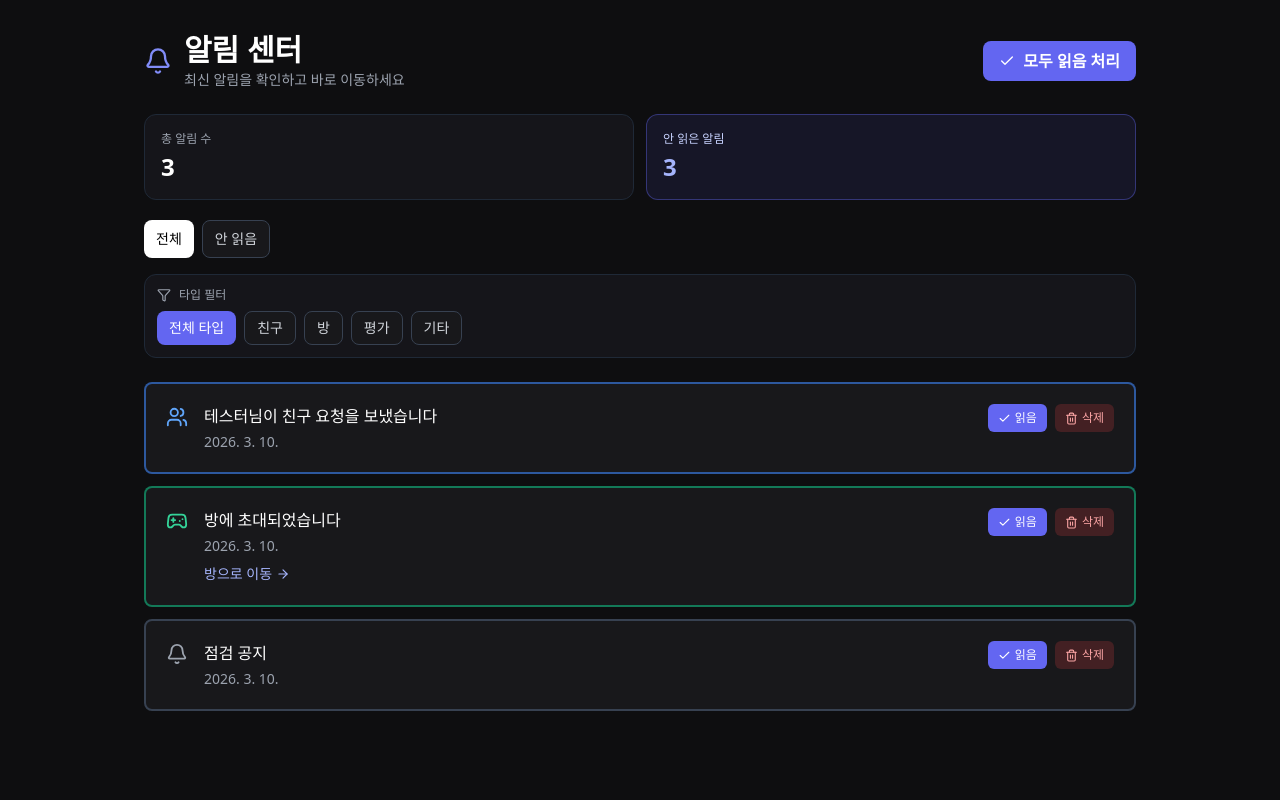
Scenario: NotificationsPage filtering › filters by unread tab and friend type
Expected: the heading "알림 센터" is shown, [184,29,302,70]
Click the button "안 읽음": coordinates (236, 239) [202,220,270,258]
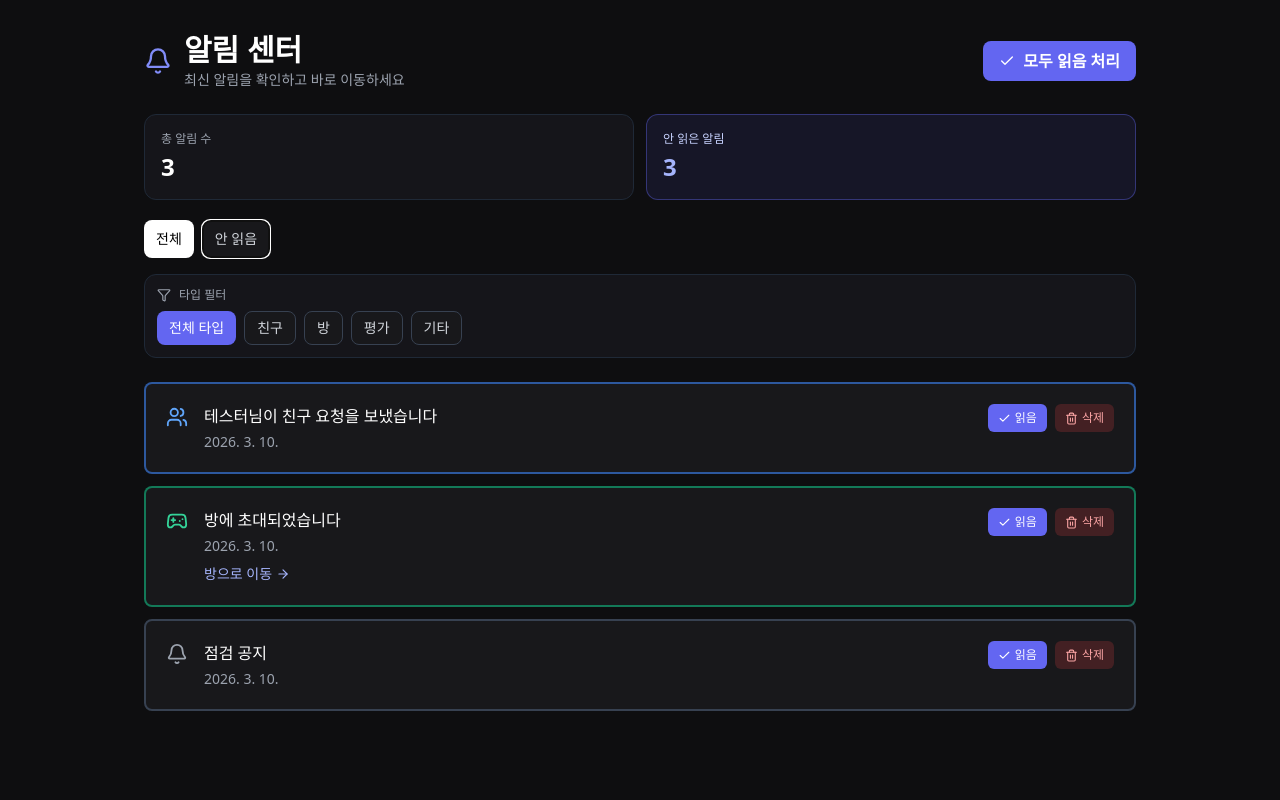
Click the button "친구": coordinates (270, 328) [244,311,296,345]
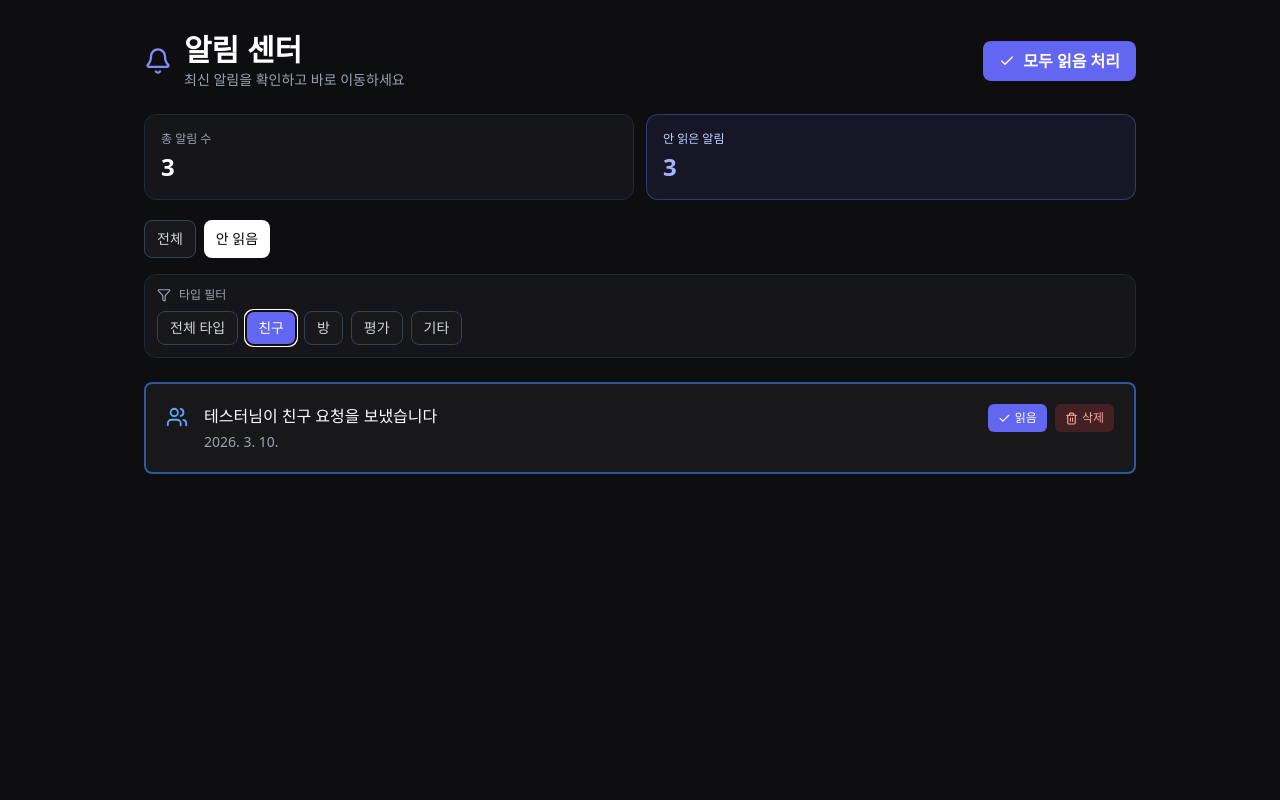
Expected: the text "테스터님이 친구 요청을 보냈습니다" is shown, [204,404,437,428]
Expected: the text "방에 초대되었습니다" is gone
Expected: the text "점검 공지" is gone
